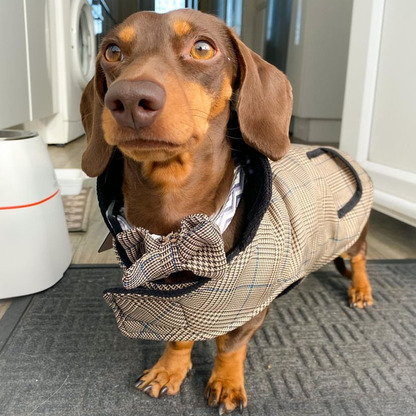dachshund: (66, 15, 353, 406)
